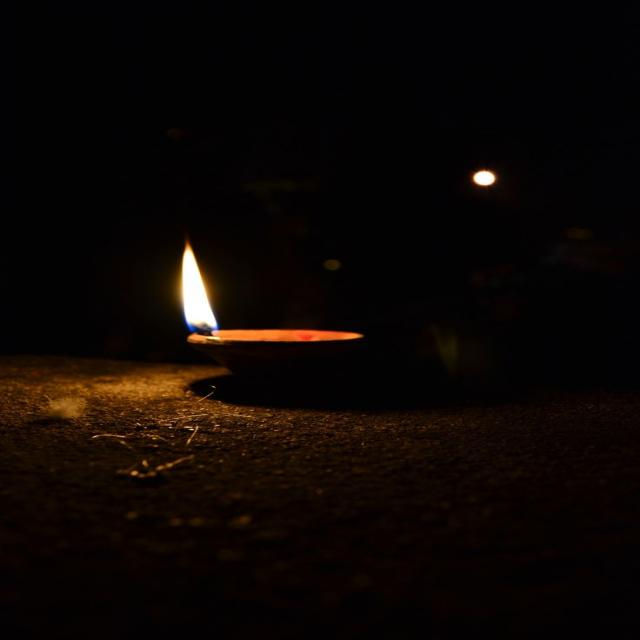fire: (182, 241, 218, 335)
